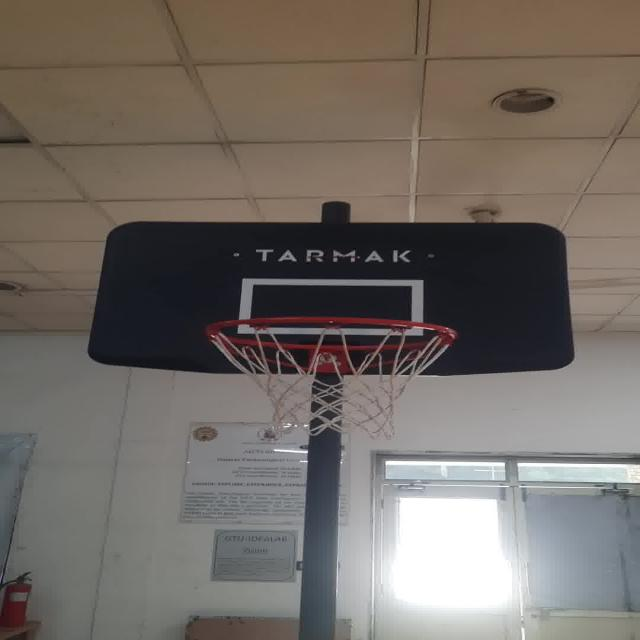objects: (196, 317, 463, 440), (247, 280, 422, 336)
